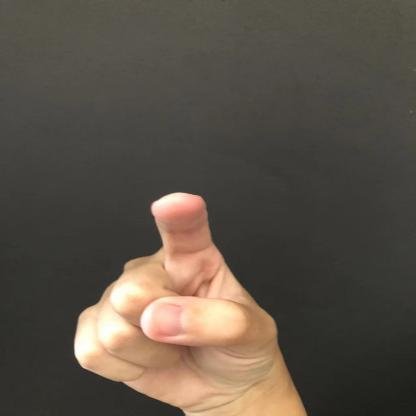finger_point: (66, 178, 290, 258)
